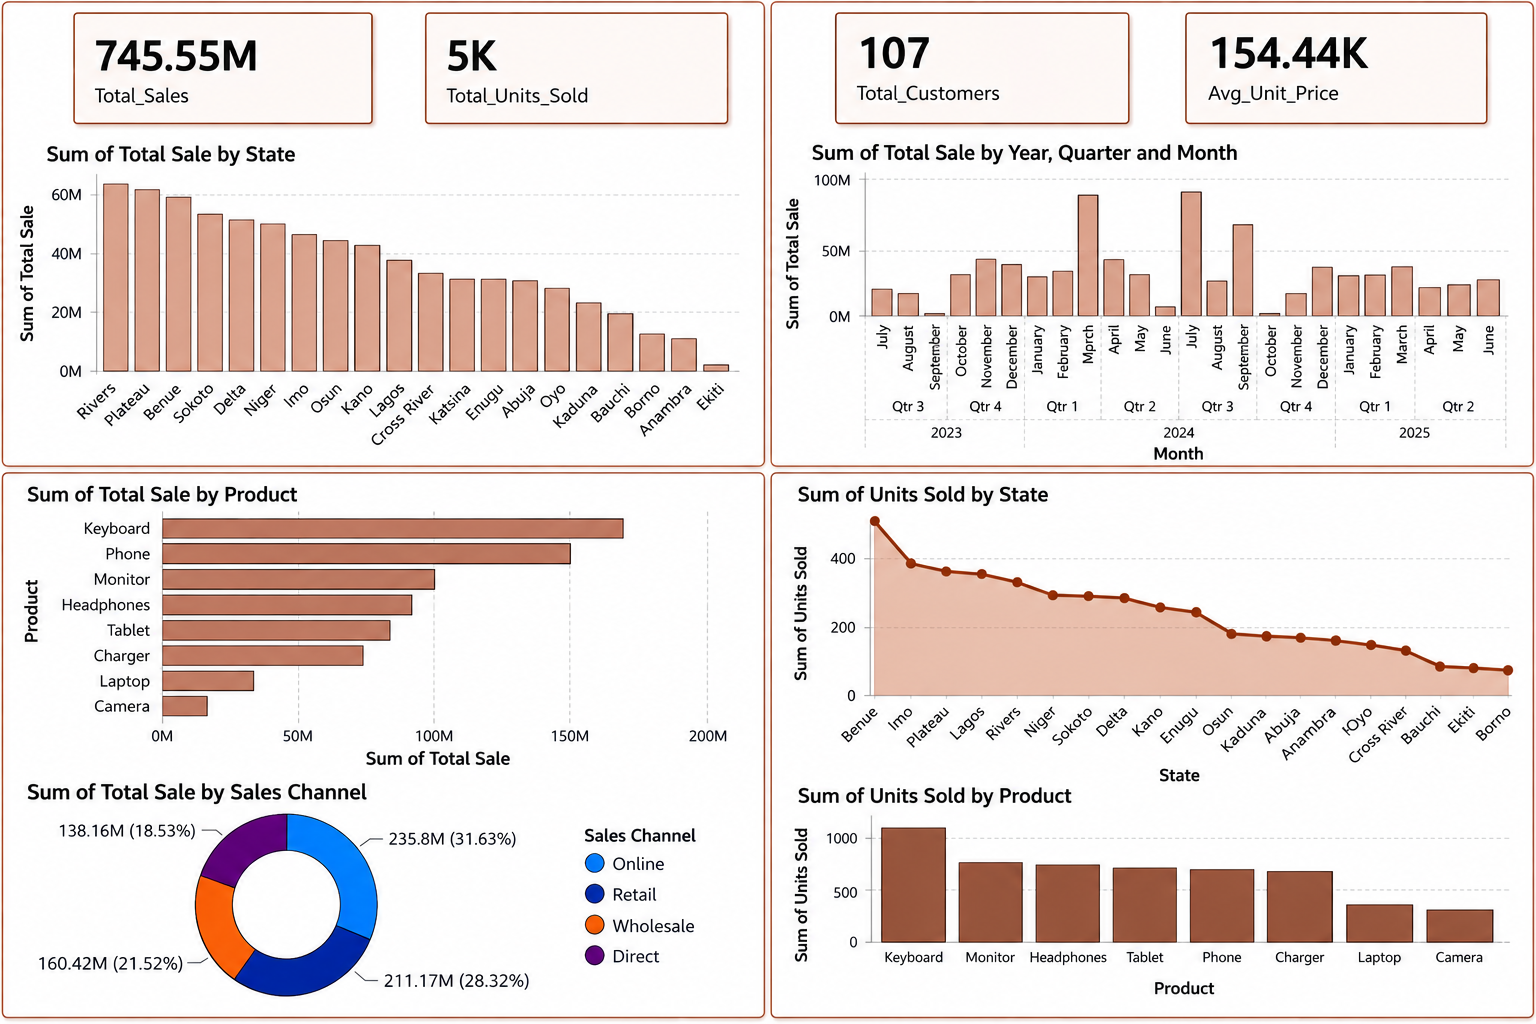

Layout of this report page (visuals, bound fields, positions):
{"tool":"powerbi","page":{"name":"Page 2","canvas":[2500,1155],"ordinal":1},"visuals":[{"type":"cardVisual","fields":{"Data":["Sheet1.Total Sales"]},"box":[34.3,40,291.4,245.7],"z":0},{"type":"cardVisual","fields":{"Data":["Sheet1.Total_Units_Sold"]},"box":[46.7,285,291.7,245],"z":1000},{"type":"cardVisual","fields":{"Data":["Sheet1.Total_Customers"]},"box":[46.7,528.3,291.7,245],"z":2000},{"type":"cardVisual","fields":{"Data":["Sheet1.Avg_Unit_Price"]},"box":[58.3,785,291.7,245],"z":3000},{"type":"clusteredBarChart","fields":{"Y":["Sum(Sheet1.Total Sale)"],"Category":["Sheet1.Product"]},"box":[395.7,385.7,394.3,310],"z":4000},{"type":"clusteredColumnChart","fields":{"Y":["Sum(Sheet1.Total Sale)"],"Category":["Sheet1.State"]},"box":[364.3,55.7,520,310],"z":5000},{"type":"donutChart","fields":{"Y":["Sum(Sheet1.Total Sale)"],"Category":["Sheet1.Sales Channel"]},"box":[395.7,741.4,428.6,288.6],"z":6000},{"type":"lineStackedColumnComboChart","fields":{"Y":["Sum(Sheet1.Total Sale)"],"Category":["Sheet1.Sale Date.Variation.Date Hierarchy.Year","Sheet1.Sale Date.Variation.Date Hierarchy.Quarter","Sheet1.Sale Date.Variation.Date Hierarchy.Month"]},"box":[977.1,40,448.6,310],"z":7000},{"type":"clusteredBarChart","fields":{"Category":["Sheet1.Customer Name"],"Y":["Sum(Sheet1.Total Sale)"]},"box":[867.1,452.9,515.7,310],"z":8000},{"type":"columnChart","fields":{"Category":["Sheet1.Product"],"Y":["Sum(Sheet1.Units Sold)"]},"box":[847.1,762.9,595.7,288.6],"z":9000},{"type":"columnChart","fields":{"Y":["Sum(Sheet1.Units Sold)"],"Category":["Sheet1.Product"]},"box":[1458.6,55.7,432.9,310],"z":10000},{"type":"lineChart","fields":{"Y":["Sum(Sheet1.Units Sold)"],"Category":["Sheet1.State"]},"box":[1367.1,421.4,487.1,310],"z":11000},{"type":"pieChart","fields":{"Y":["Sum(Sheet1.Units Sold)"],"Category":["Sheet1.Sales Channel"]},"box":[1487.1,762.9,414.3,310],"z":12000},{"type":"cardVisual","fields":{"Data":["Sheet1.Min_Date"]},"box":[1901.4,55.7,342.9,310],"z":13000},{"type":"cardVisual","fields":{"Data":["Sheet1.Max_Date"]},"box":[1948.6,385.7,418.6,212.9],"z":14000}]}

Visuals, with their boxes on the page's 2500x1155 design canvas (x1, y1, x2, y2). These are canvas units, not pixel positions in the 1536x1024 screenshot, which may show the page scaled, cropped or inside an application window:
cardVisual - Sheet1.Total Sales: box(34, 40, 326, 286)
cardVisual - Sheet1.Total_Units_Sold: box(47, 285, 338, 530)
cardVisual - Sheet1.Total_Customers: box(47, 528, 338, 773)
cardVisual - Sheet1.Avg_Unit_Price: box(58, 785, 350, 1030)
clusteredBarChart - Sum(Sheet1.Total Sale) x Sheet1.Product: box(396, 386, 790, 696)
clusteredColumnChart - Sum(Sheet1.Total Sale) x Sheet1.State: box(364, 56, 884, 366)
donutChart - Sum(Sheet1.Total Sale) x Sheet1.Sales Channel: box(396, 741, 824, 1030)
lineStackedColumnComboChart - Sum(Sheet1.Total Sale) x Sheet1.Sale Date.Variation.Date Hierarchy.Year: box(977, 40, 1426, 350)
clusteredBarChart - Sheet1.Customer Name x Sum(Sheet1.Total Sale): box(867, 453, 1383, 763)
columnChart - Sheet1.Product x Sum(Sheet1.Units Sold): box(847, 763, 1443, 1052)
columnChart - Sum(Sheet1.Units Sold) x Sheet1.Product: box(1459, 56, 1892, 366)
lineChart - Sum(Sheet1.Units Sold) x Sheet1.State: box(1367, 421, 1854, 731)
pieChart - Sum(Sheet1.Units Sold) x Sheet1.Sales Channel: box(1487, 763, 1901, 1073)
cardVisual - Sheet1.Min_Date: box(1901, 56, 2244, 366)
cardVisual - Sheet1.Max_Date: box(1949, 386, 2367, 599)
